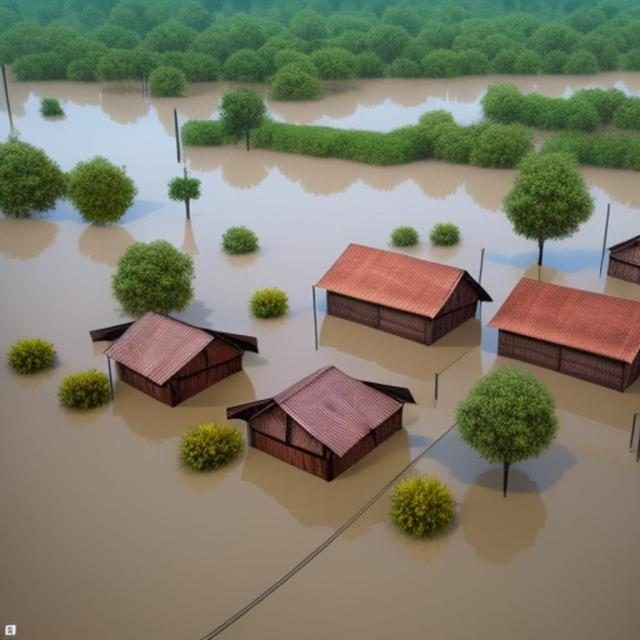flood: (0, 251, 442, 640), (214, 357, 640, 640), (184, 148, 640, 314), (0, 164, 201, 397), (8, 81, 233, 188), (266, 72, 640, 130), (0, 81, 9, 141)
house: (229, 359, 409, 488), (486, 268, 640, 406), (322, 232, 472, 359), (105, 308, 252, 416), (608, 233, 640, 286)
